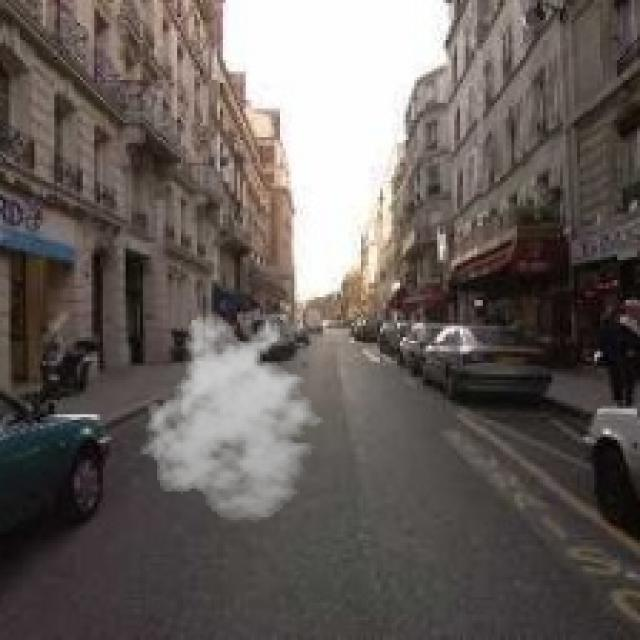Smoke: (134, 312, 334, 522)
